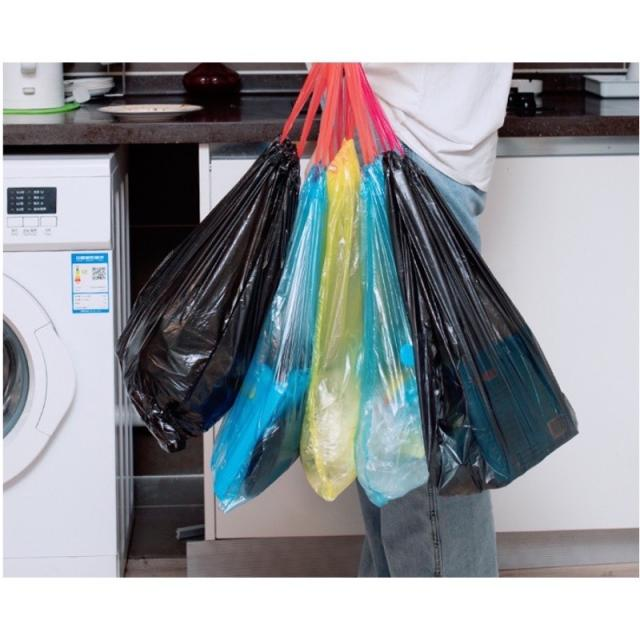Single-layer Plastic: (384, 152, 578, 494), (116, 140, 300, 451), (211, 168, 326, 512), (355, 160, 429, 506), (300, 140, 362, 501)
